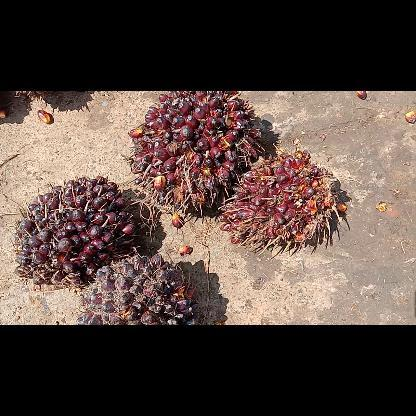Kurang masak: (130, 91, 263, 233), (218, 144, 346, 254), (12, 176, 132, 288), (77, 254, 197, 324)
